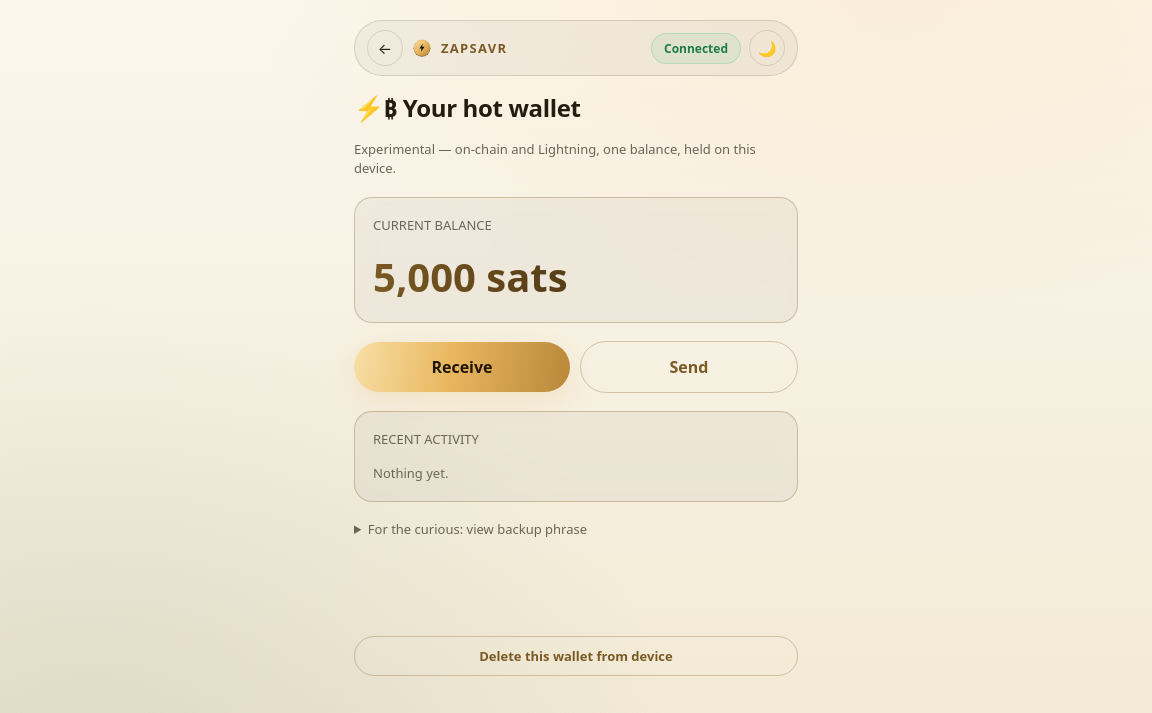
Test case: HotWalletDetail — send to a kid › a demo kid gets credited without touching the real hot wallet balance
Click the button "Send" at (689, 367), box [580, 341, 798, 393]
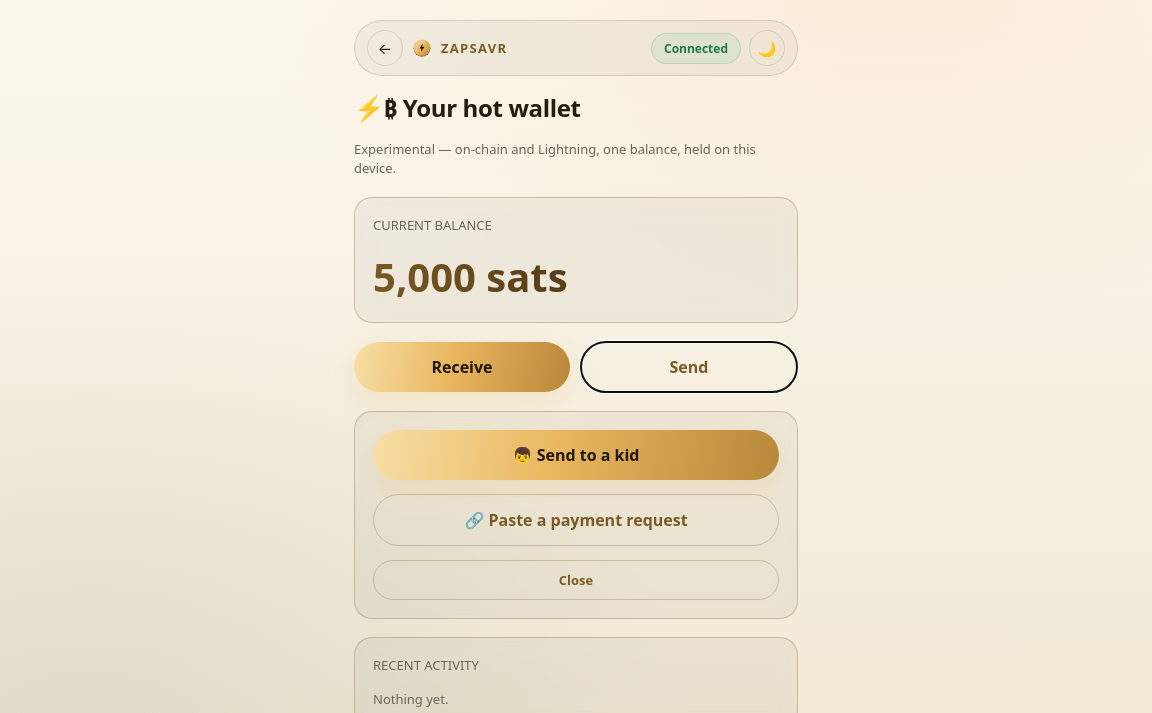
Click the button "👦 Send to a kid" at (576, 455), box [373, 430, 779, 480]
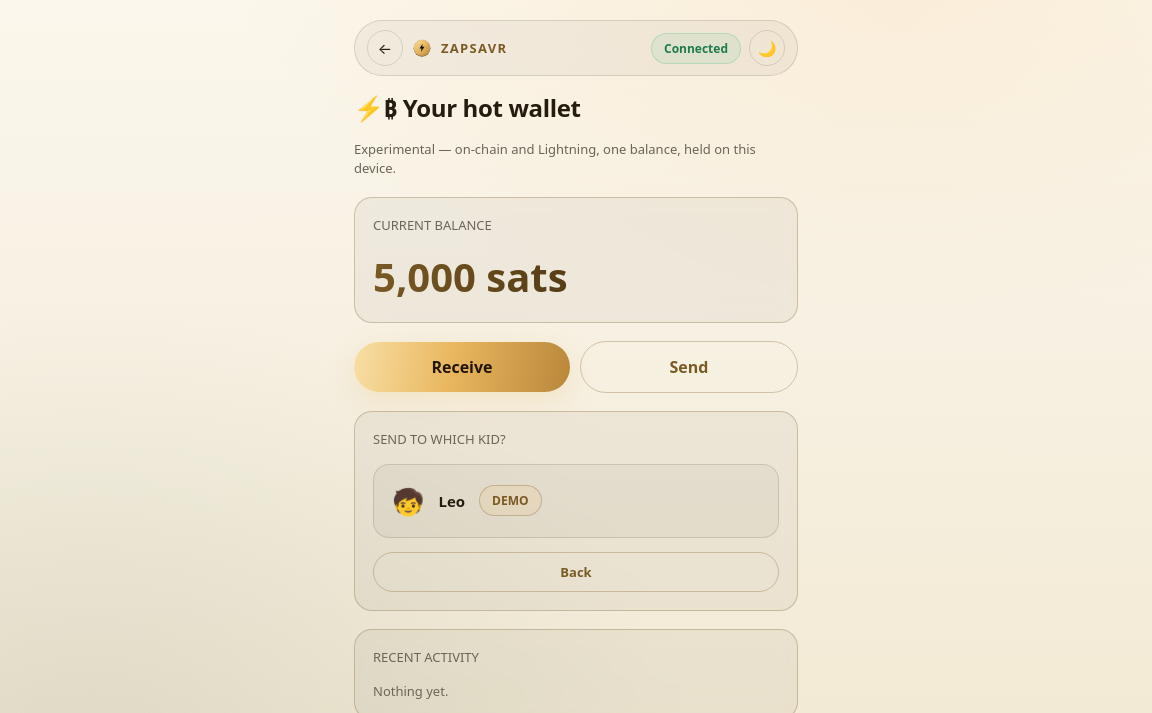
Click the button "🧒 Leo DEMO" at (408, 501), box [373, 464, 779, 538]
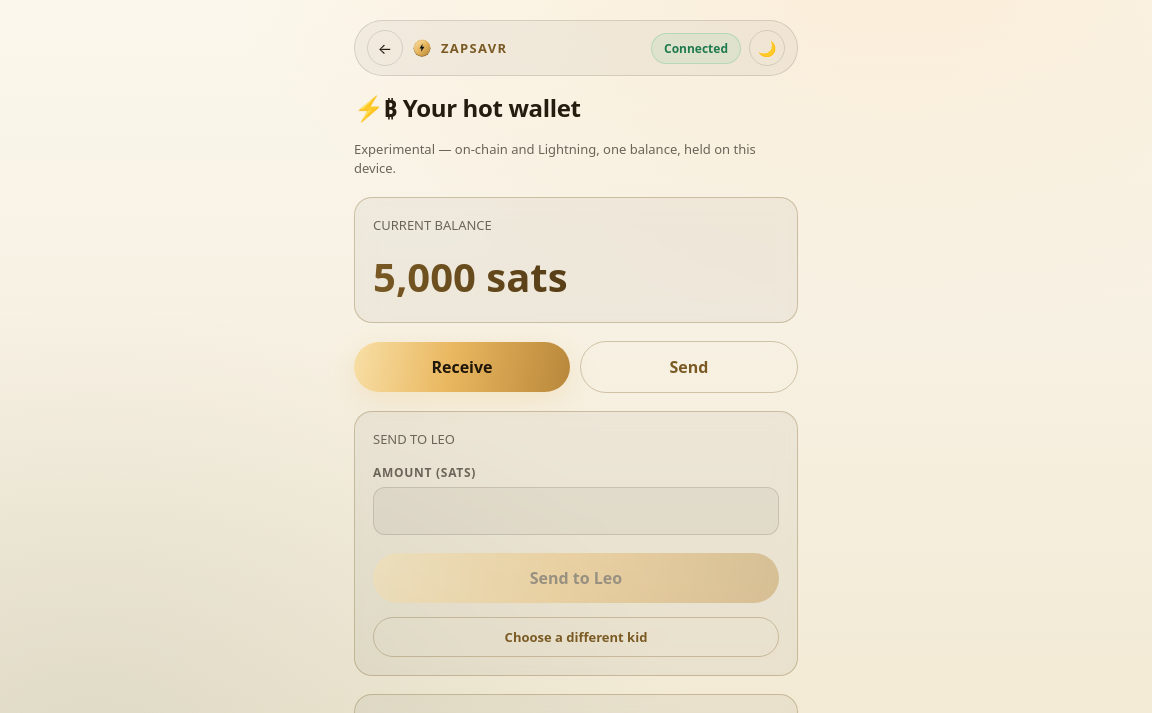
Type "500" into the number field labelled "Amount (sats)" at (576, 511), box [373, 487, 779, 535]
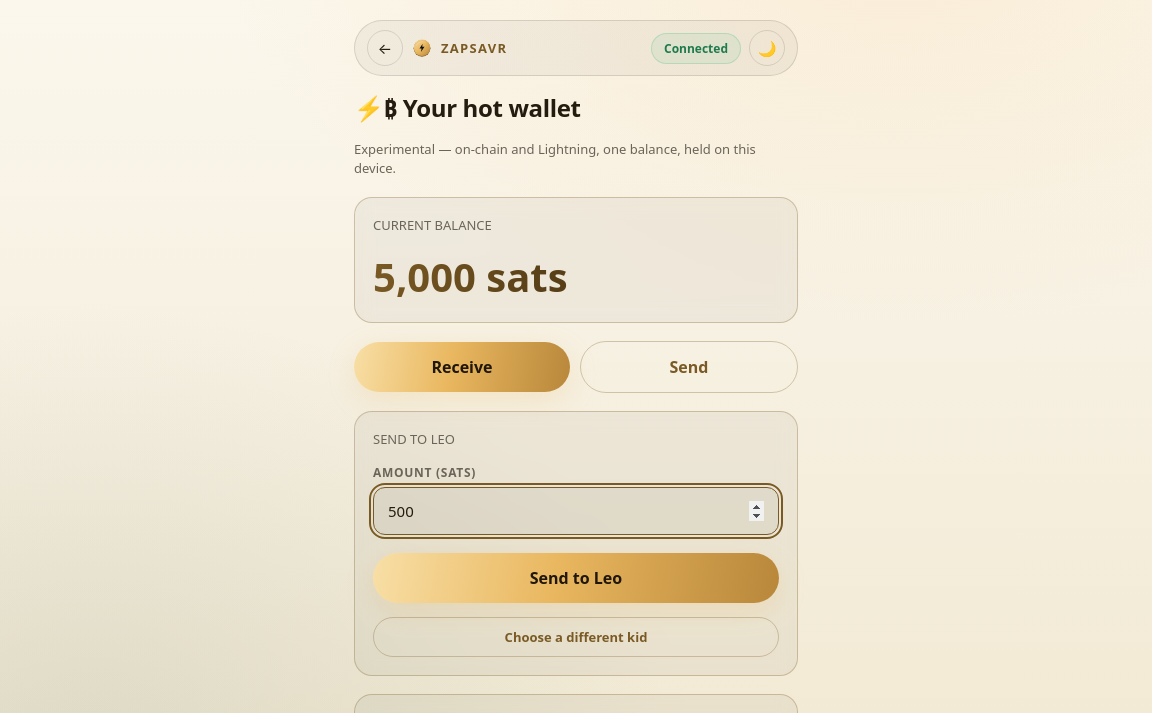
Click the button "Send to Leo" at (576, 578), box [373, 553, 779, 603]
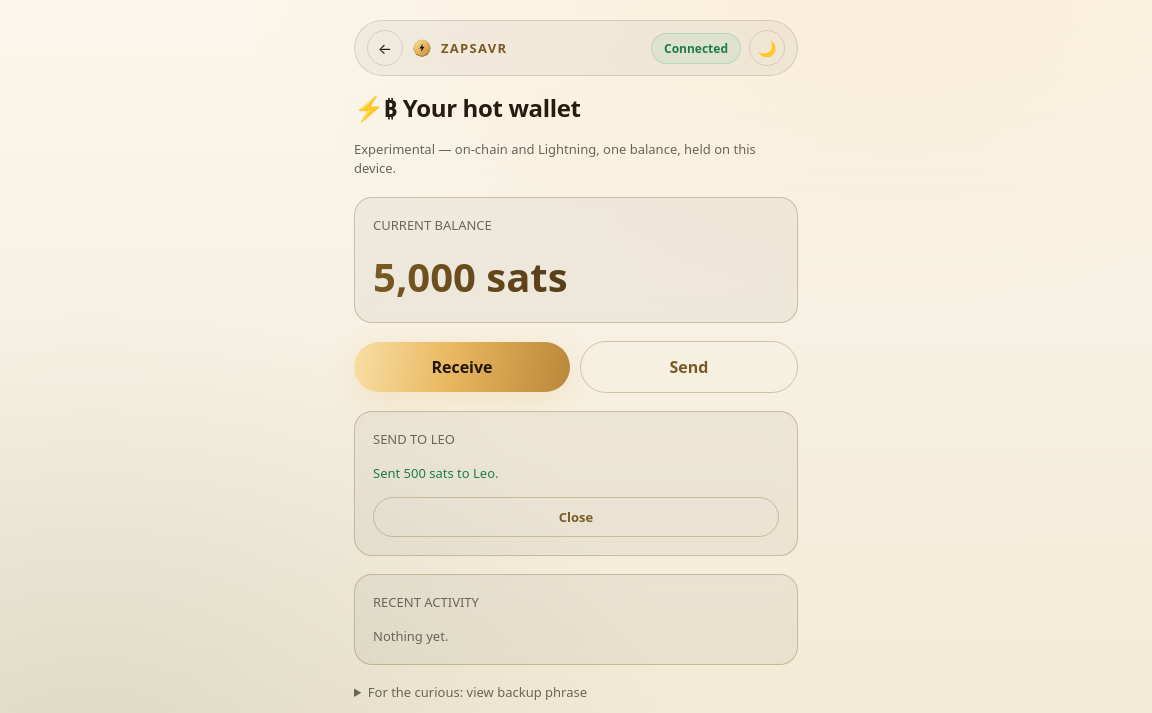
Check: the text "Sent 500 sats to Leo." is shown, box [373, 464, 498, 482]
